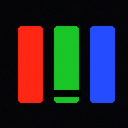3 line_h: (46, 90, 80, 96)
